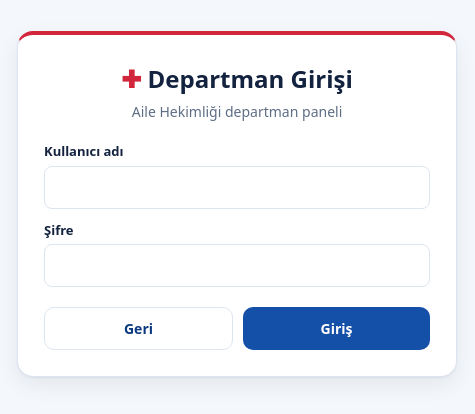
department login › shows a generic message for wrong credentials
Type "aile.hekimligi" into the field labelled "Kullanıcı adı".
click(237, 187); type("aile.hekimligi")  # box x1=44 y1=166 x2=430 y2=208
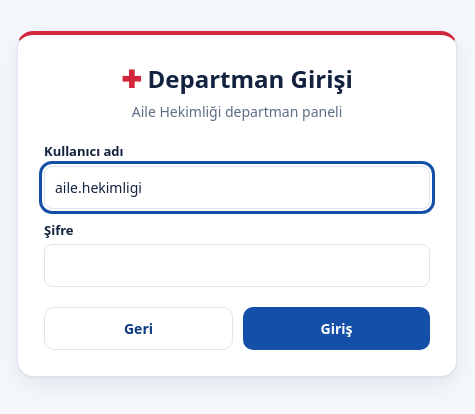
Type "demo1234" into the password field labelled "Şifre".
click(237, 266); type("demo1234")  # box x1=44 y1=244 x2=430 y2=287
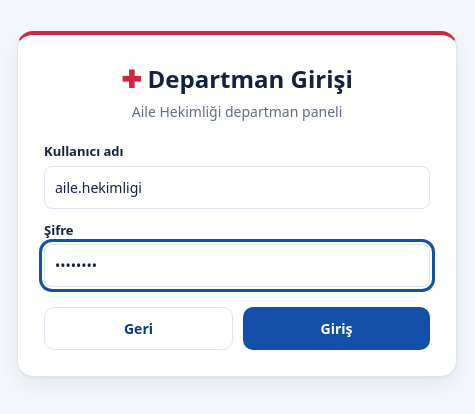
Click the button "Giriş".
click(336, 328)  # box x1=243 y1=307 x2=430 y2=350
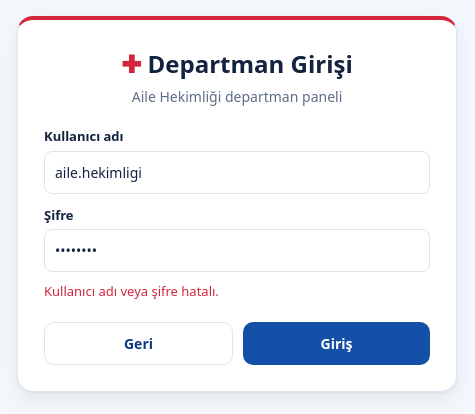
Result: the message reads "Kullanıcı adı veya şifre hatalı." at x1=44 y1=282 x2=219 y2=300
